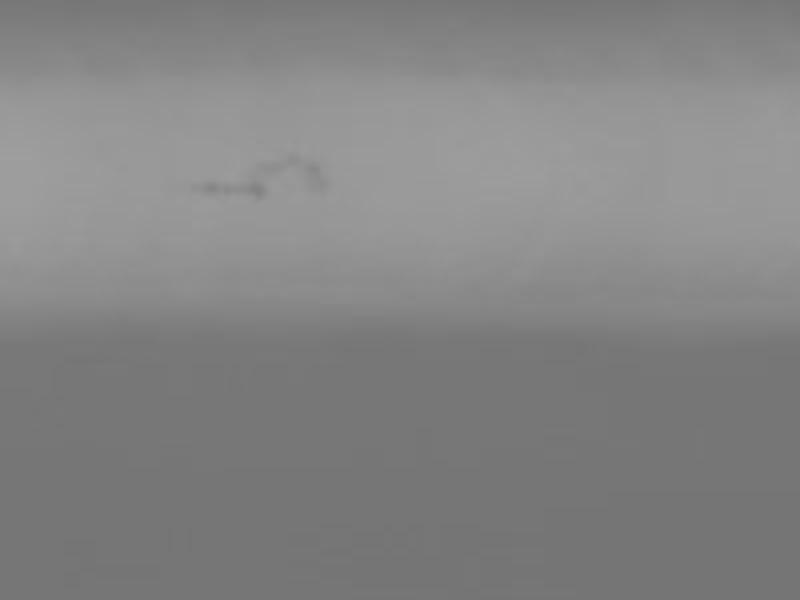defect: (218, 180, 269, 206), (306, 162, 332, 199), (253, 159, 287, 180), (195, 176, 220, 198), (284, 152, 302, 170)
